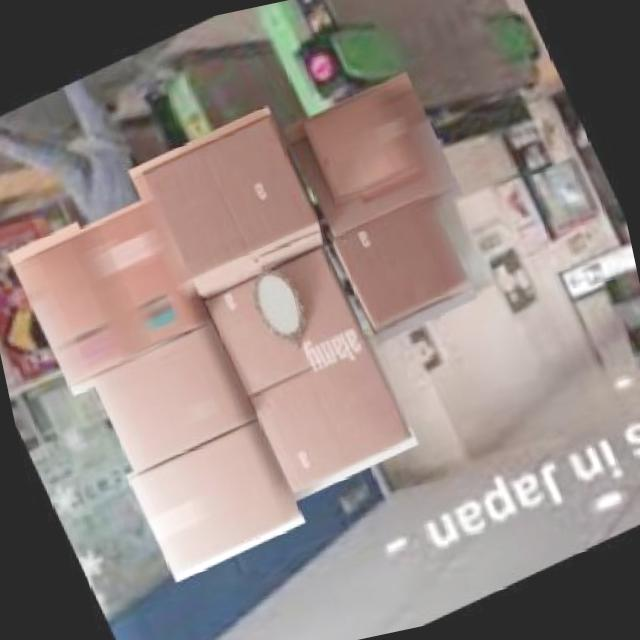box: (116, 94, 342, 319), (272, 61, 472, 261), (116, 406, 315, 590), (231, 326, 427, 510), (188, 233, 379, 410), (79, 312, 263, 478), (0, 211, 148, 405), (320, 183, 485, 352), (70, 185, 218, 368)
